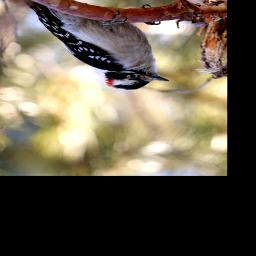Woodpecker: (23, 0, 170, 89)
